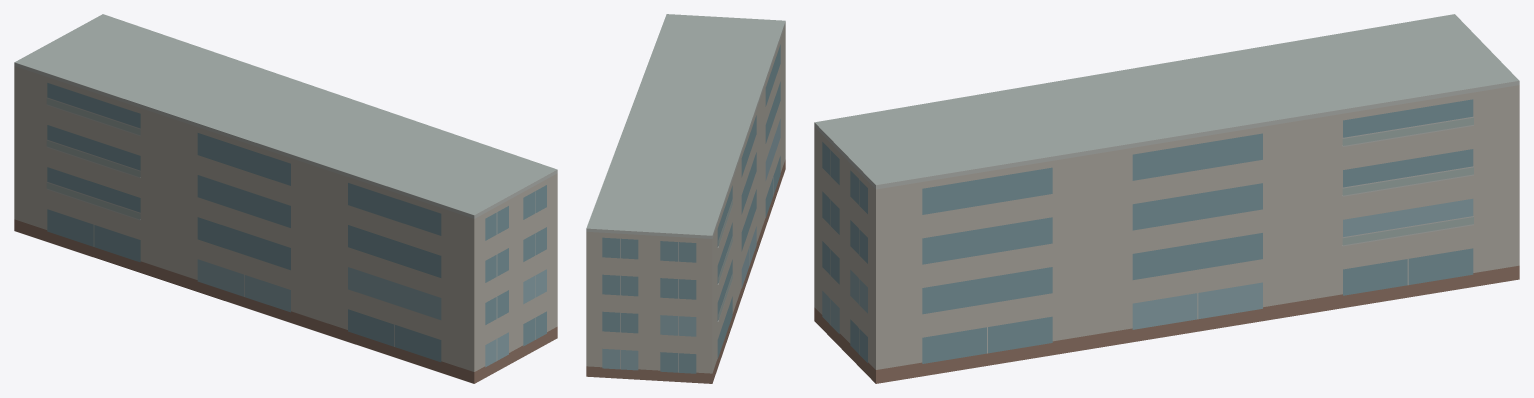
File: survey-upis-32886709.glb
3 views of the same model, side by side, from view 1: azimuth 30°, elevation 25°; view 2: azimuth 150°, elevation 25°; view 3: azimuth 270°, elevation 25° (orthographic). The views are drawn at different scales.
Visible parts, largest first — view 1: survey-upis-32886709.tmp; view 2: survey-upis-32886709.tmp; view 3: survey-upis-32886709.tmp.
Part boxes in pixels (x1,y1,x2,y2): survey-upis-32886709.tmp: [14, 14, 557, 383]; survey-upis-32886709.tmp: [586, 14, 785, 383]; survey-upis-32886709.tmp: [814, 14, 1519, 383].
Bounding box in the file's own units: 20.89 × 11.3 × 36.35.
